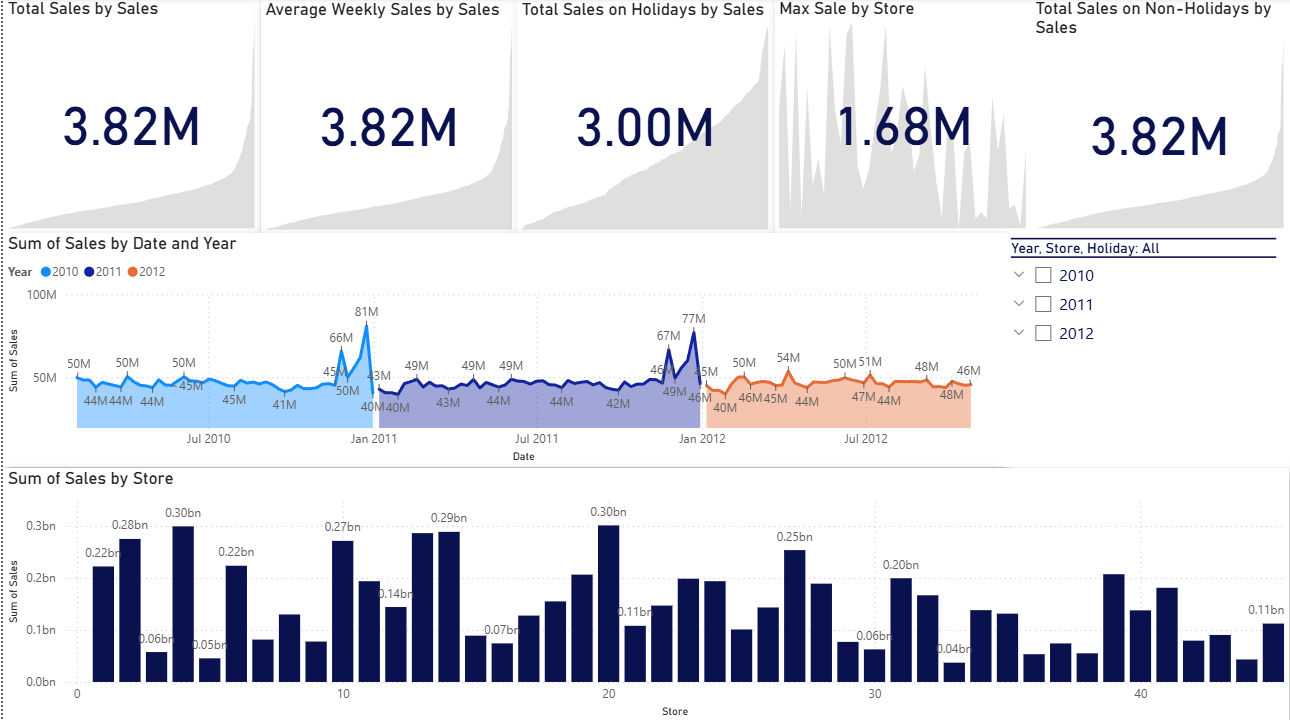

What the dashboard file says about the page in this screenshot:
{"tool":"powerbi","page":{"name":"Page 1","canvas":[1280,720],"ordinal":0},"visuals":[{"type":"kpi","fields":{"Indicator":["Walmart_Sales.Total Sales"],"TrendLine":["Walmart_Sales.Sales"]},"box":[0,0,255.8,234.5],"z":0},{"type":"kpi","fields":{"Indicator":["Walmart_Sales.Average Weekly Sales"],"TrendLine":["Walmart_Sales.Sales"]},"box":[255.8,1.4,255.8,234.5],"z":1000},{"type":"kpi","fields":{"Indicator":["Walmart_Sales.Total Sales on Holidays"],"TrendLine":["Walmart_Sales.Sales"]},"box":[511.5,1.4,255.8,234.5],"z":2000},{"type":"kpi","fields":{"Indicator":["Walmart_Sales.Max Sale"],"TrendLine":["Walmart_Sales.Store"]},"box":[767.3,0,255.8,234.5],"z":3000},{"type":"lineChart","fields":{"Y":["Sum(Walmart_Sales.Sales)"],"Category":["Walmart_Sales.Date"],"Series":["Walmart_Sales.Year"]},"box":[0,234.5,990.4,233],"z":4000},{"type":"clusteredColumnChart","fields":{"Category":["Walmart_Sales.Store"],"Y":["Sum(Walmart_Sales.Sales)"]},"box":[0,467.5,1280.3,252.9],"z":5000},{"type":"slicer","fields":{"Values":["Walmart_Sales.Date.Variation.Date Hierarchy.Year","Walmart_Sales.Store","Walmart_Sales.Holiday"]},"box":[990.4,234.5,289.9,233],"z":6000},{"type":"kpi","fields":{"TrendLine":["Walmart_Sales.Sales"],"Indicator":["Walmart_Sales.Total Sales on Non-Holidays"]},"box":[1023.1,0,257.2,234.5],"z":7000}]}

Visuals, with their boxes in screenshot pixels (x1, y1, x2, y2), scaled from the page's 1280x720 canvas onto the 1290x720 screenshot:
kpi - Walmart_Sales.Total Sales x Walmart_Sales.Sales: left=0, top=0, right=258, bottom=234
kpi - Walmart_Sales.Average Weekly Sales x Walmart_Sales.Sales: left=258, top=1, right=516, bottom=236
kpi - Walmart_Sales.Total Sales on Holidays x Walmart_Sales.Sales: left=515, top=1, right=773, bottom=236
kpi - Walmart_Sales.Max Sale x Walmart_Sales.Store: left=773, top=0, right=1031, bottom=234
lineChart - Sum(Walmart_Sales.Sales) x Walmart_Sales.Date: left=0, top=234, right=998, bottom=468
clusteredColumnChart - Walmart_Sales.Store x Sum(Walmart_Sales.Sales): left=0, top=468, right=1289, bottom=719
slicer - Walmart_Sales.Date.Variation.Date Hierarchy.Year x Walmart_Sales.Store: left=998, top=234, right=1289, bottom=468
kpi - Walmart_Sales.Sales x Walmart_Sales.Total Sales on Non-Holidays: left=1031, top=0, right=1289, bottom=234
